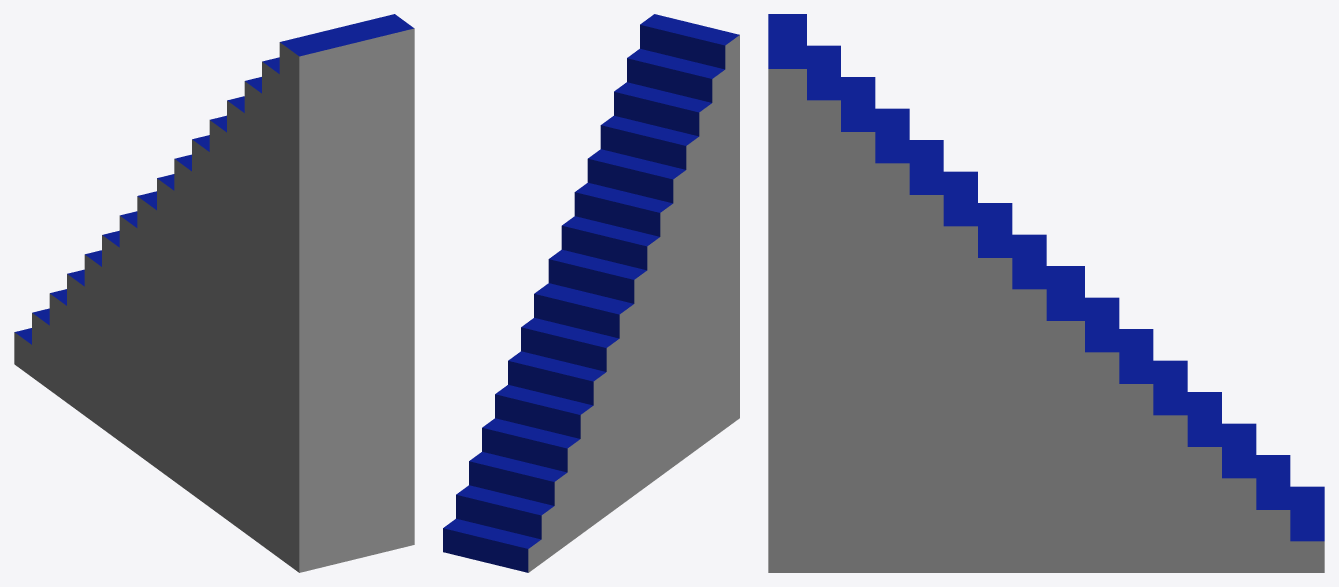
Rendered from Stairs_01.fbx.
The picture shows the model from 3 angles, left to right: view 1: azimuth 30°, elevation 25°; view 2: azimuth 150°, elevation 25°; view 3: azimuth 270°, elevation 25°; orthographic projection. The views are drawn at different scales.
Parts seen in each view (by area): view 1: Stairs_01; view 2: Stairs_01; view 3: Stairs_01.
Boxes of the visible parts, x1,y1,x2,y2 form: Stairs_01: (14,14,414,572); Stairs_01: (443,14,739,572); Stairs_01: (768,14,1324,572).
Size of the model in its own units: 0.7 by 3 by 3.
